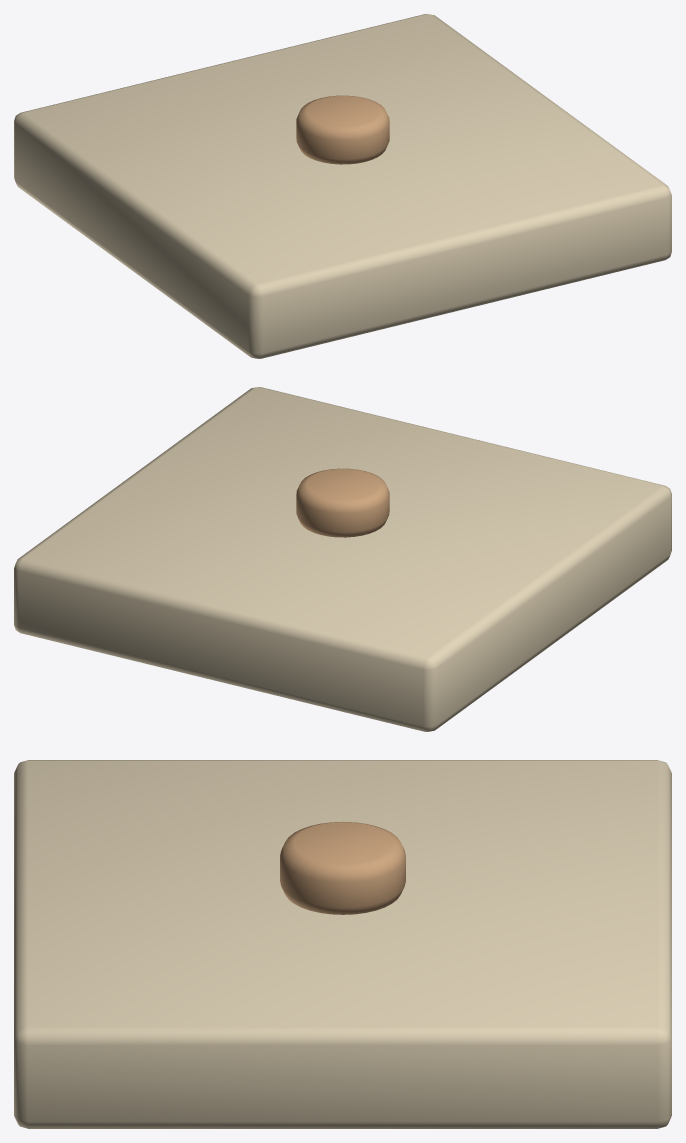
Rendered from lid.glb.
3 views of the same model, one above another, from view 1: azimuth 30°, elevation 25°; view 2: azimuth 150°, elevation 25°; view 3: azimuth 270°, elevation 25° (orthographic). The views are drawn at different scales.
Parts seen in each view (by area): view 1: Lid_Body, Lid_Knob; view 2: Lid_Body, Lid_Knob; view 3: Lid_Body, Lid_Knob.
Part boxes in pixels (<box>): Lid_Body: <box>14,14,671,358</box>; Lid_Knob: <box>296,95,389,164</box>; Lid_Body: <box>14,387,671,731</box>; Lid_Knob: <box>296,468,389,537</box>; Lid_Body: <box>14,760,671,1128</box>; Lid_Knob: <box>280,822,405,914</box>.
Bounding box in the file's own units: 0.94 × 0.24 × 0.94.
